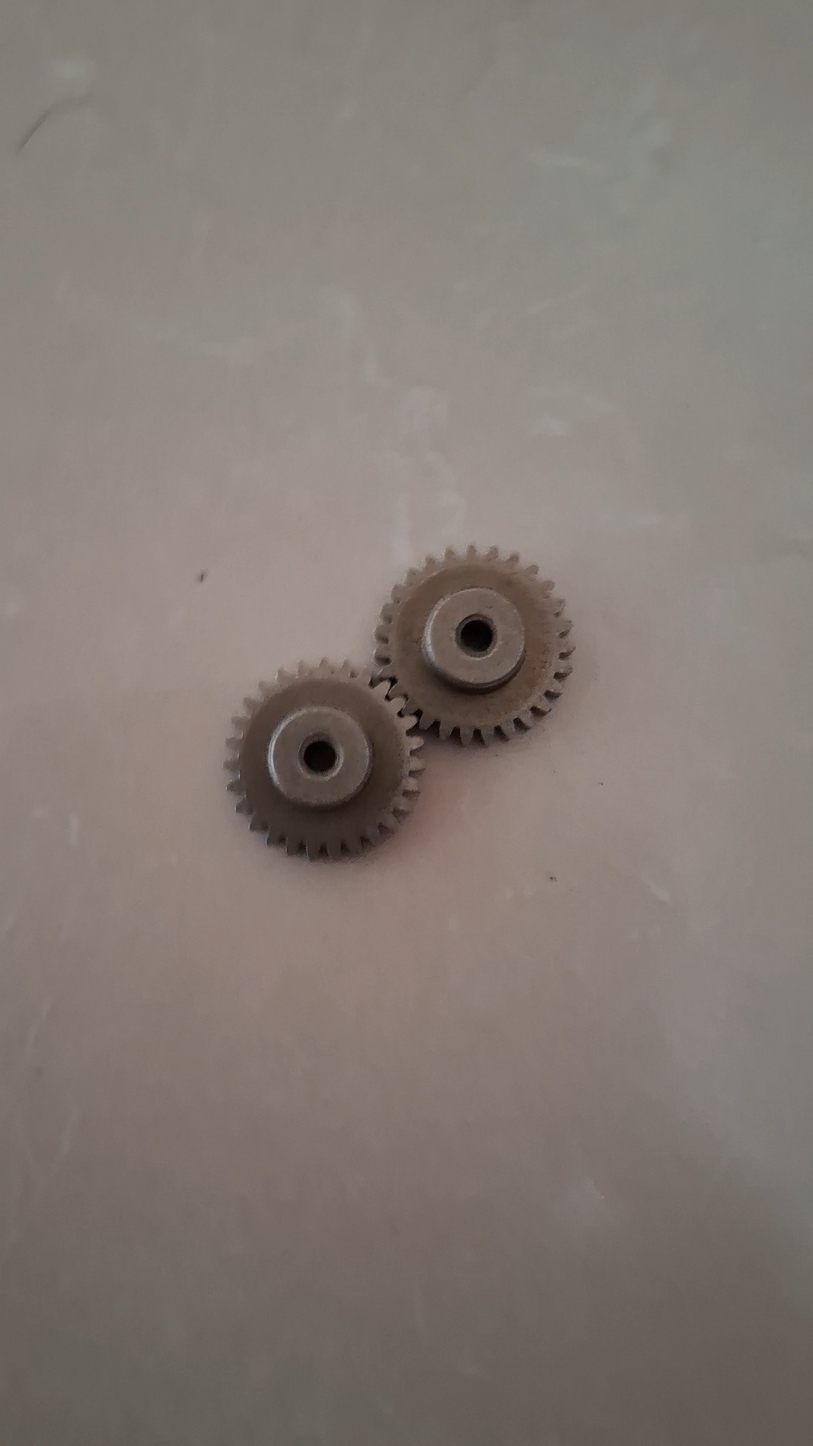spur gear: (368, 544, 563, 738), (223, 660, 416, 854)
